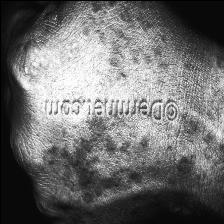Unclassified: (72, 155, 94, 188), (200, 98, 222, 120)
